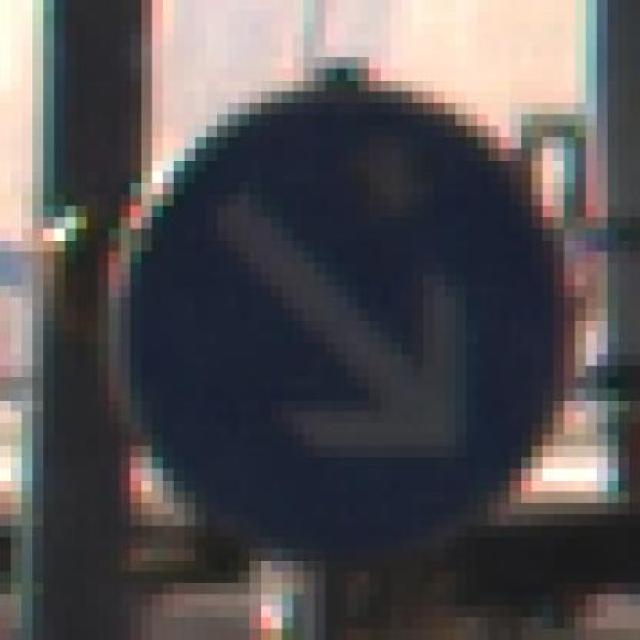Keep-Right: (43, 57, 608, 560)
